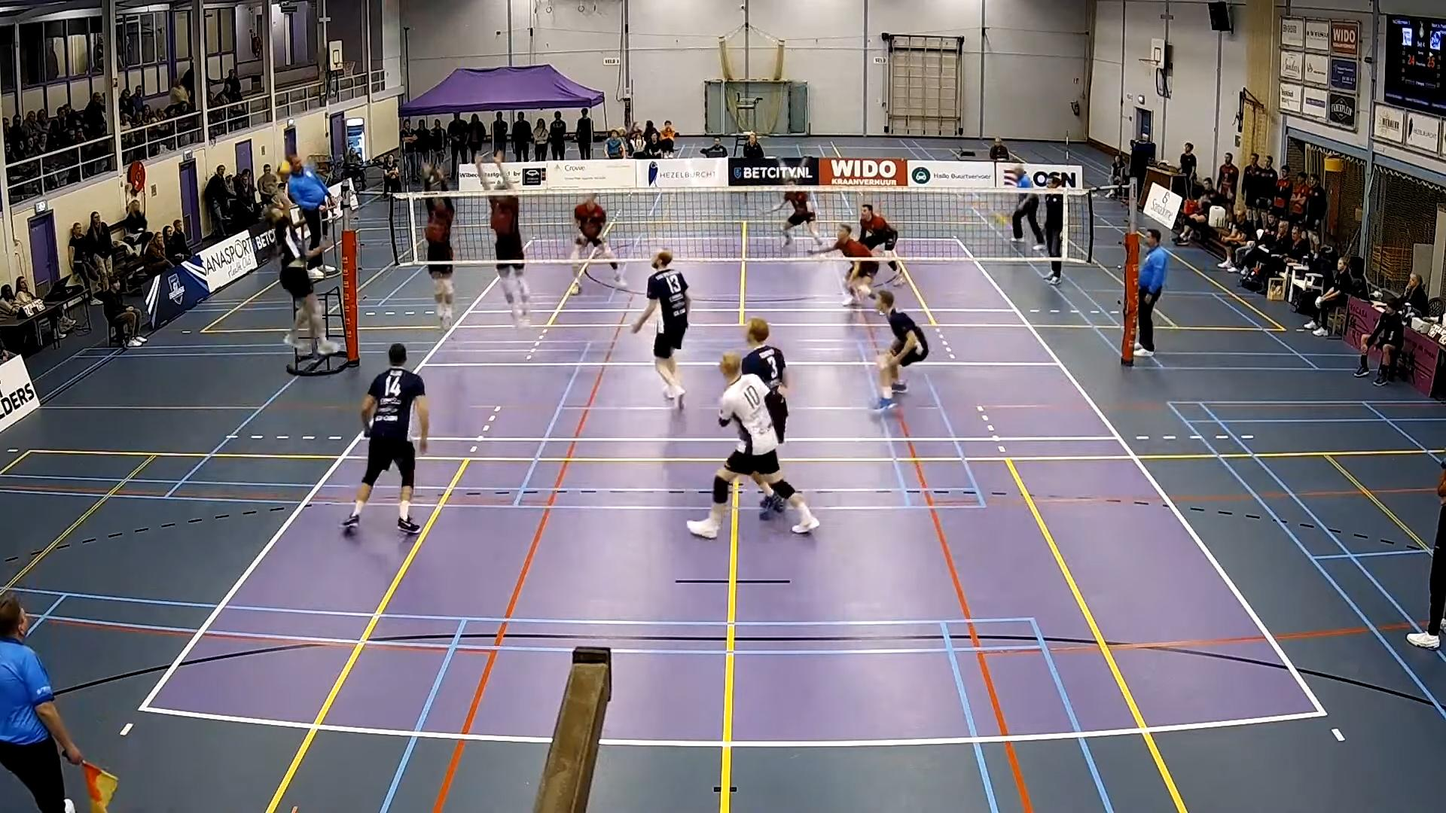attacco: (262, 187, 343, 357)
muro: (471, 144, 539, 334), (413, 159, 459, 329)
